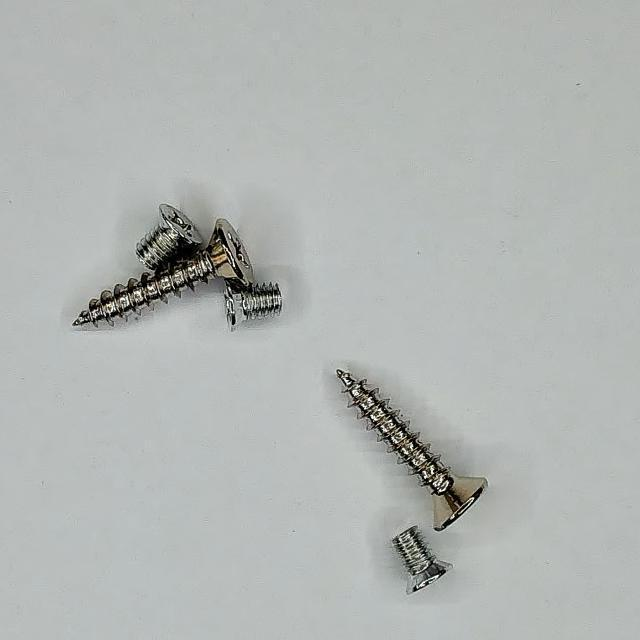Screw: (337, 370, 488, 532), (72, 219, 254, 326), (136, 204, 203, 272), (393, 527, 453, 596), (225, 282, 283, 330)
